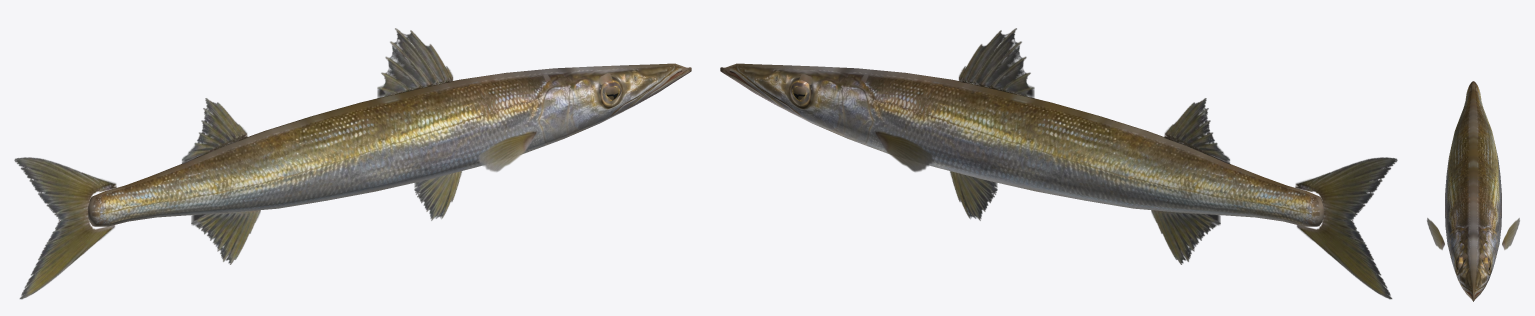
File: kamasu_lo.glb
3 renders of one model, left to right at view 1: azimuth 30°, elevation 25°; view 2: azimuth 150°, elevation 25°; view 3: azimuth 270°, elevation 25°, orthographic. The views are drawn at different scales.
Parts seen in each view (by area): view 1: kamasu; view 2: kamasu; view 3: kamasu.
Boxes of the visible parts, x1=… form: kamasu: x1=14, y1=28, x2=691, y2=299; kamasu: x1=720, y1=28, x2=1397, y2=299; kamasu: x1=1427, y1=81, x2=1519, y2=301.
Bounding box in the file's own units: 0.3501 × 0.1 × 0.0598.
1 material, 1 textured.
